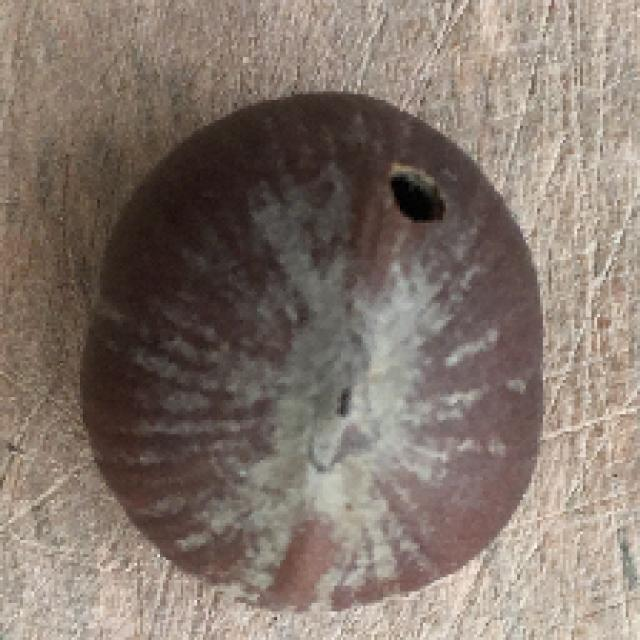damagedHazelnut: (88, 86, 546, 605)
